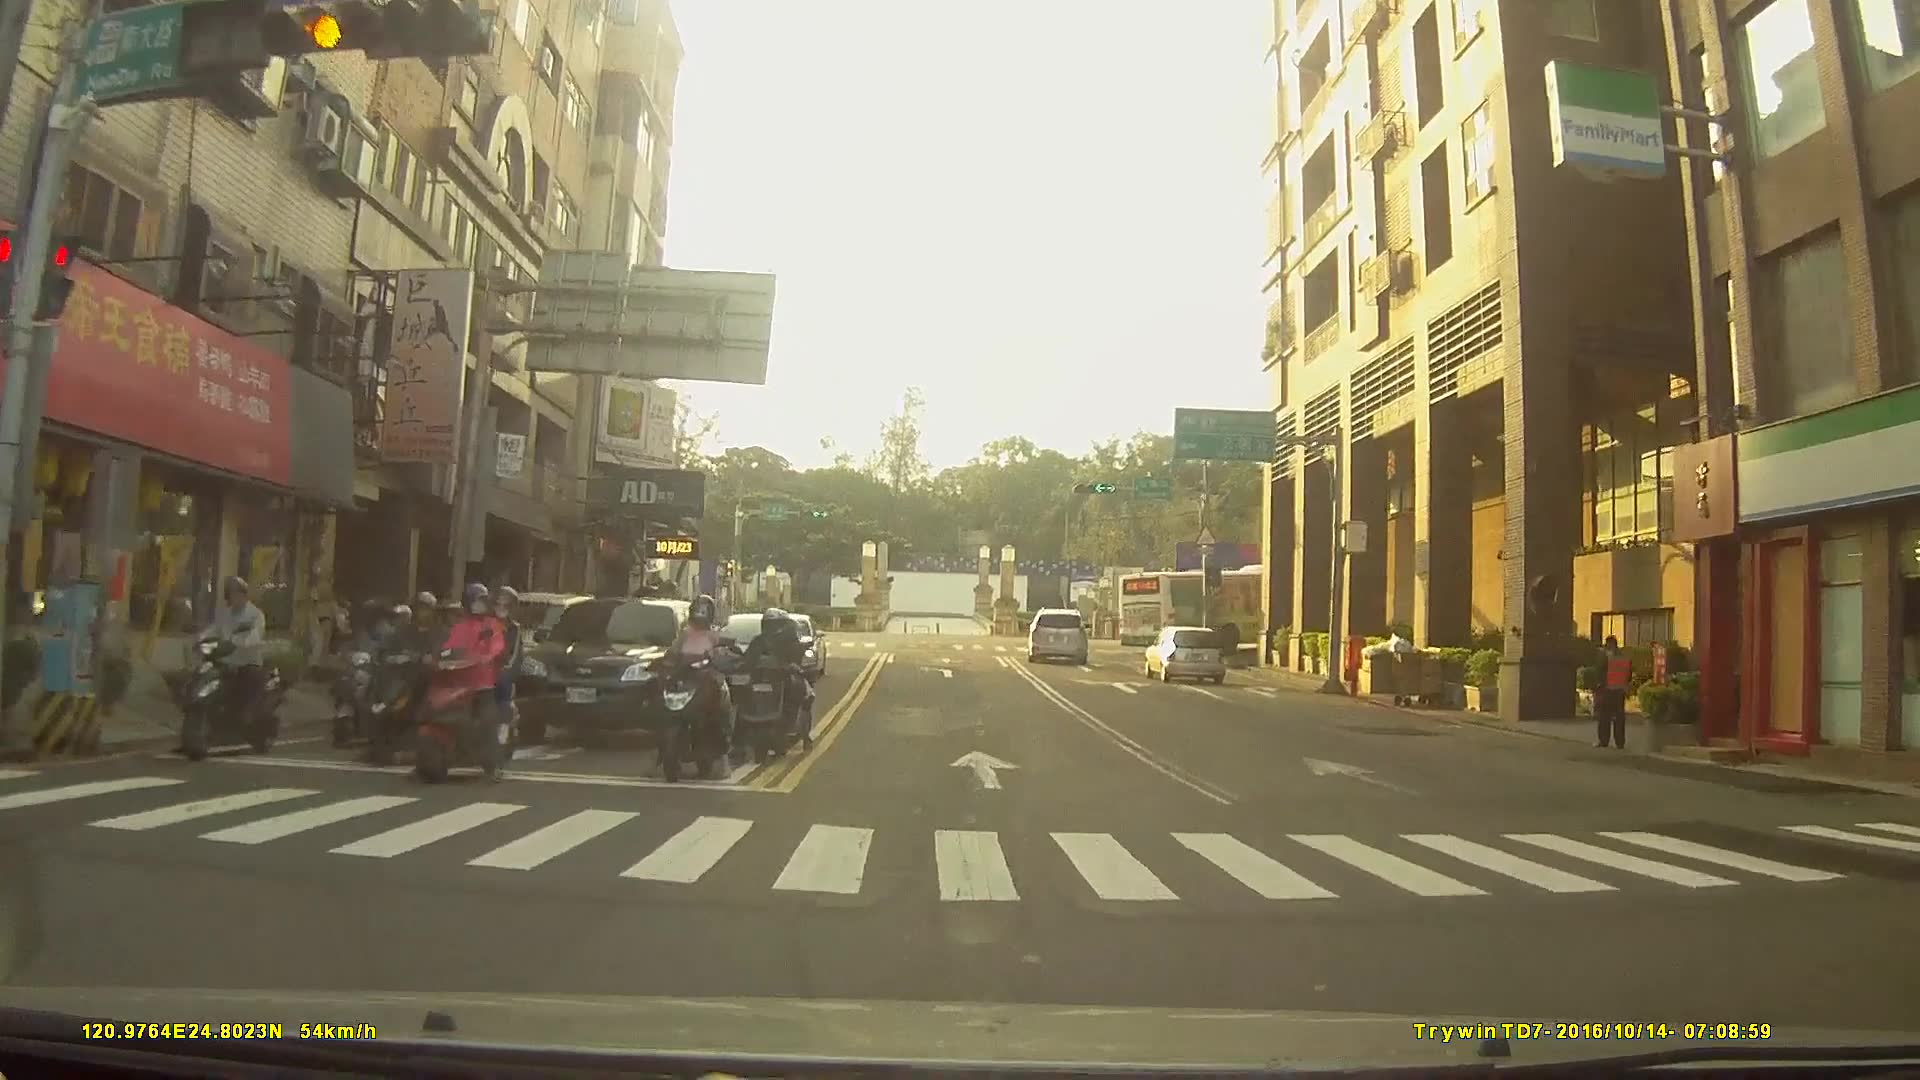pedestrian: (1586, 632, 1645, 755)
rider: (413, 581, 528, 784), (181, 573, 283, 759), (358, 585, 462, 767), (653, 595, 750, 782), (731, 608, 813, 765)
vehicle: (511, 592, 721, 745), (1116, 560, 1326, 654), (1142, 622, 1226, 681), (1026, 602, 1087, 659)
